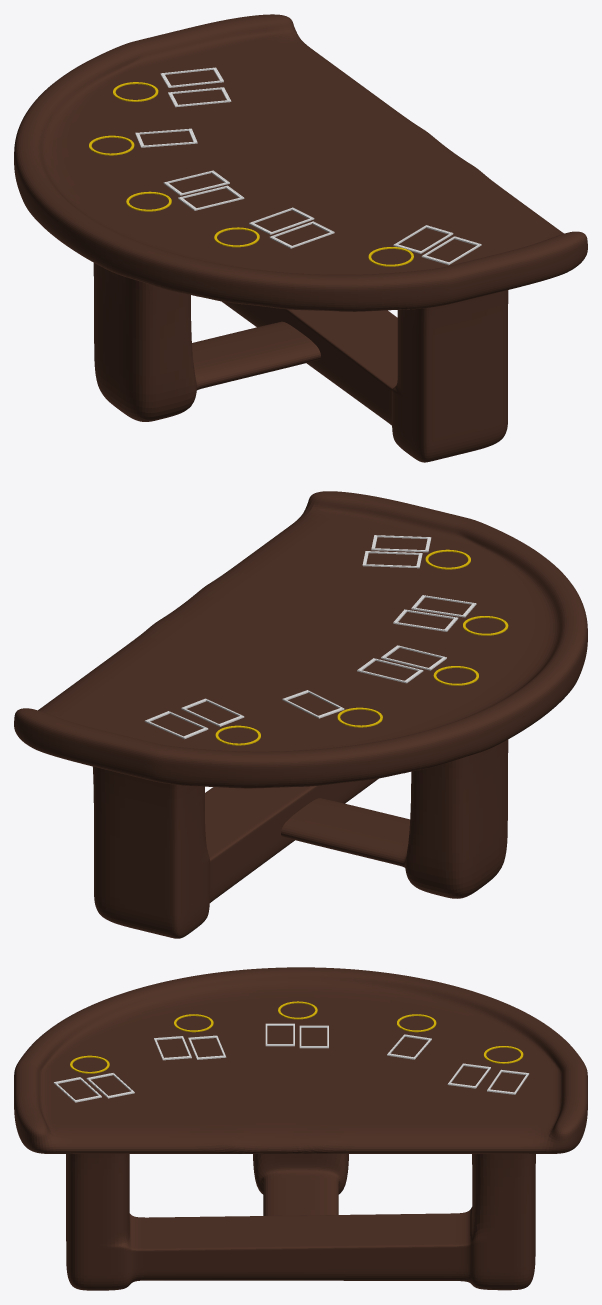
Rendered from Green_Poker_Table_w_Cards.fbx.
3 views of the same model, one above another, from view 1: azimuth 30°, elevation 25°; view 2: azimuth 150°, elevation 25°; view 3: azimuth 270°, elevation 25° (orthographic). The views are drawn at different scales.
Visible parts, largest first — view 1: Cylinder.031; view 2: Cylinder.031; view 3: Cylinder.031.
Part boxes in pixels (bbox=[...]): Cylinder.031: bbox=[14, 14, 587, 462]; Cylinder.031: bbox=[14, 491, 587, 938]; Cylinder.031: bbox=[14, 967, 587, 1290].
Size of the model in its own units: 19415 by 10513 by 28382.
